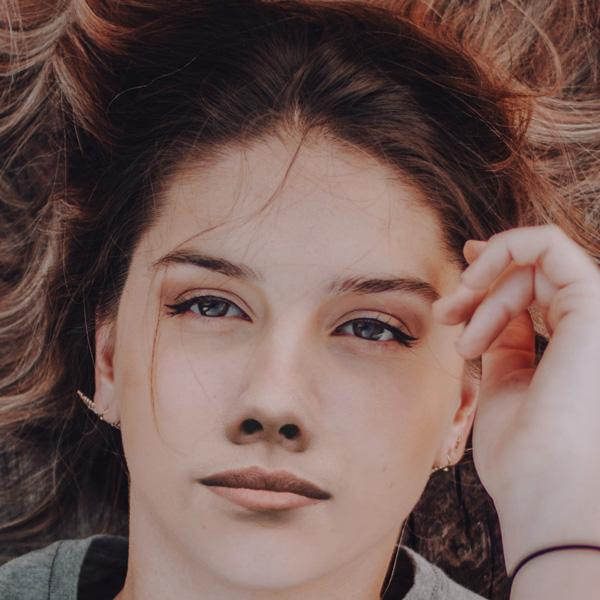Eyes: (318, 302, 424, 359), (161, 275, 256, 335)
